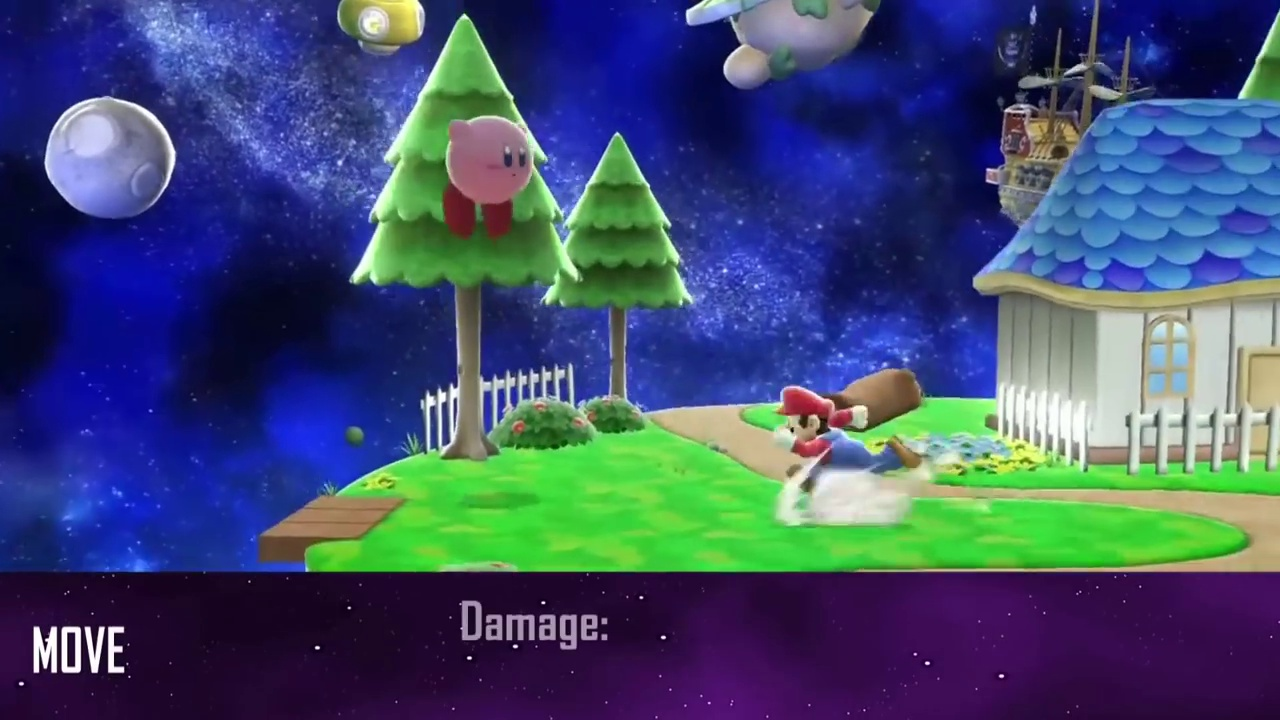Mario: (774, 384, 921, 494)
